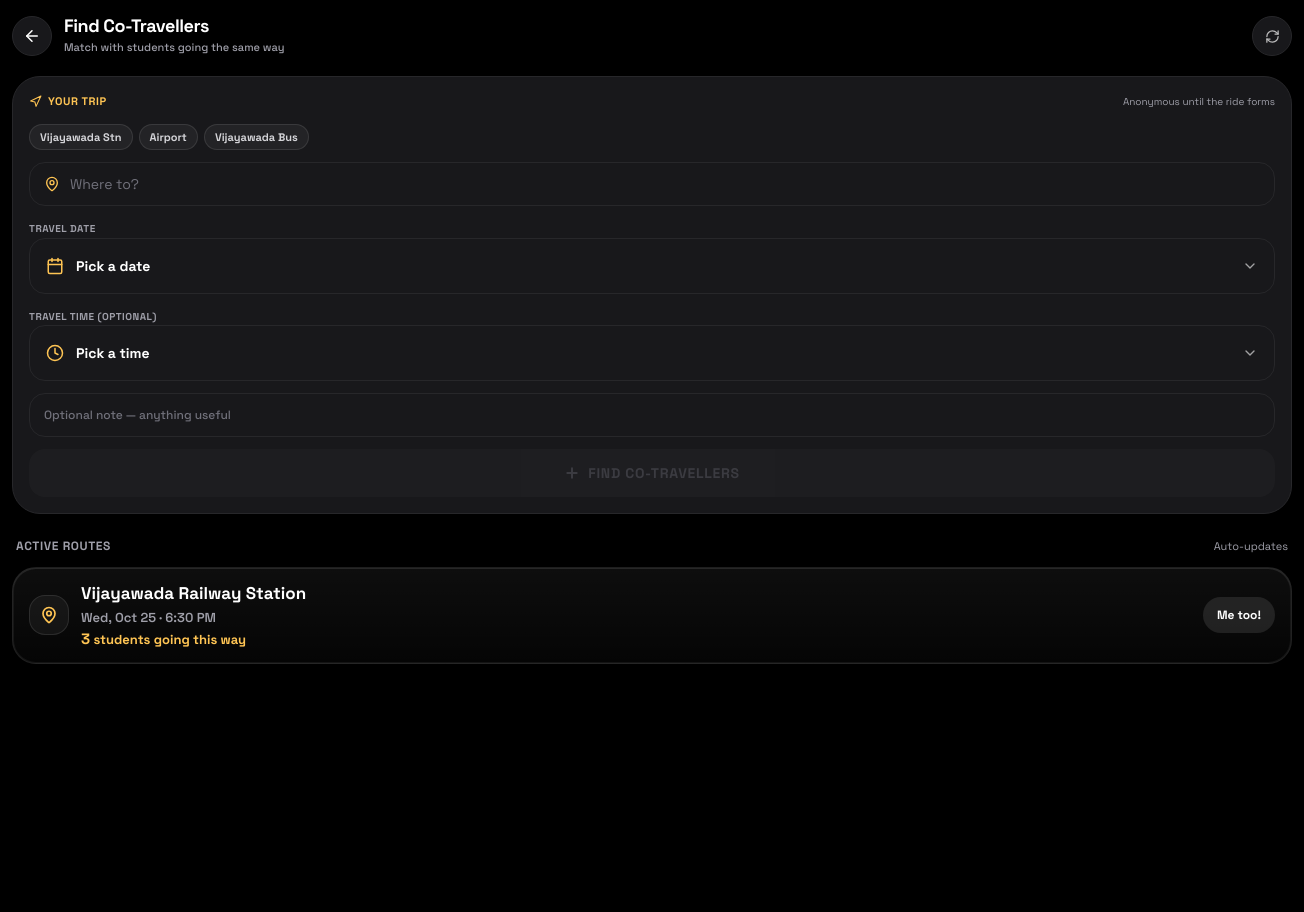
Test: RideWantsView Component › renders aggregate demand cards with 'Me too!' button
This screenshot has width=1304, height=912.
Expected: the text "3" is shown, [81,629,90,648]
Expected: the text "3 students going this way" is shown, [81,629,246,648]
Step 1. Click the button with test id "me-too-btn" → (1239, 615), box [1203,597,1275,633]
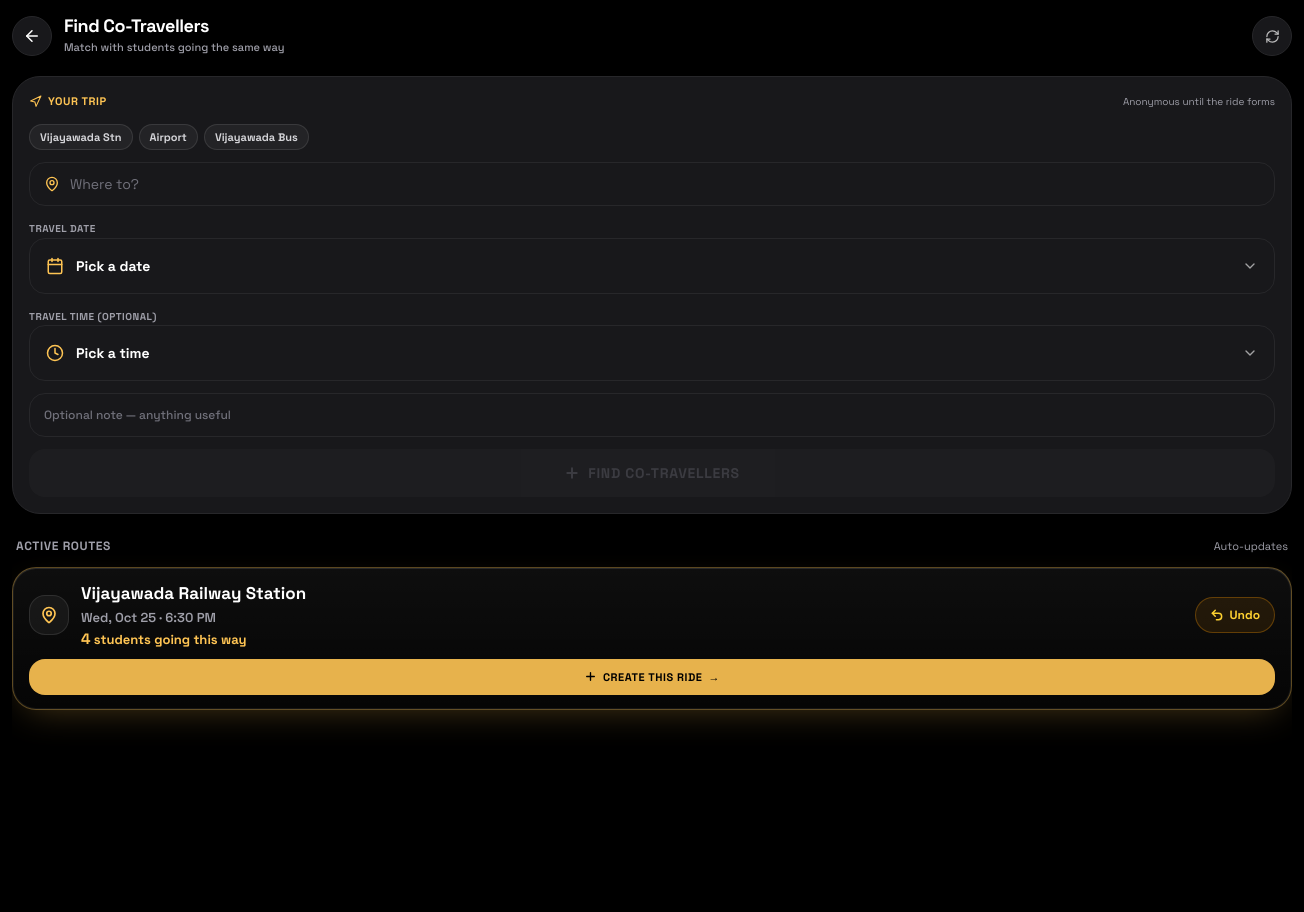
Expected: the button with test id "me-too-btn" is enabled, [1194,597,1275,633]
Now the button with test id "me-too-btn" reads "Undo", box [1194,597,1275,633]
